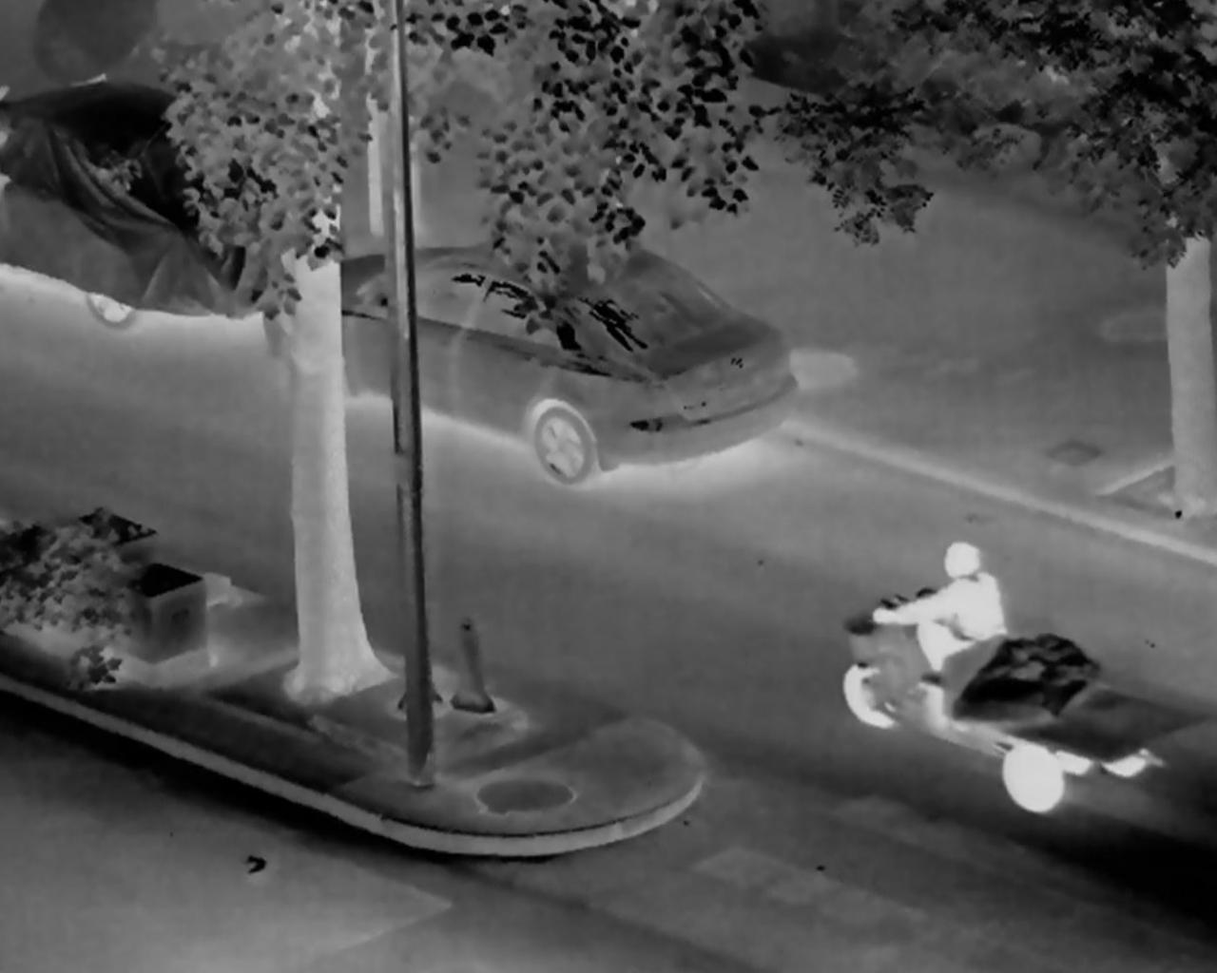person: (870, 541, 1009, 702)
